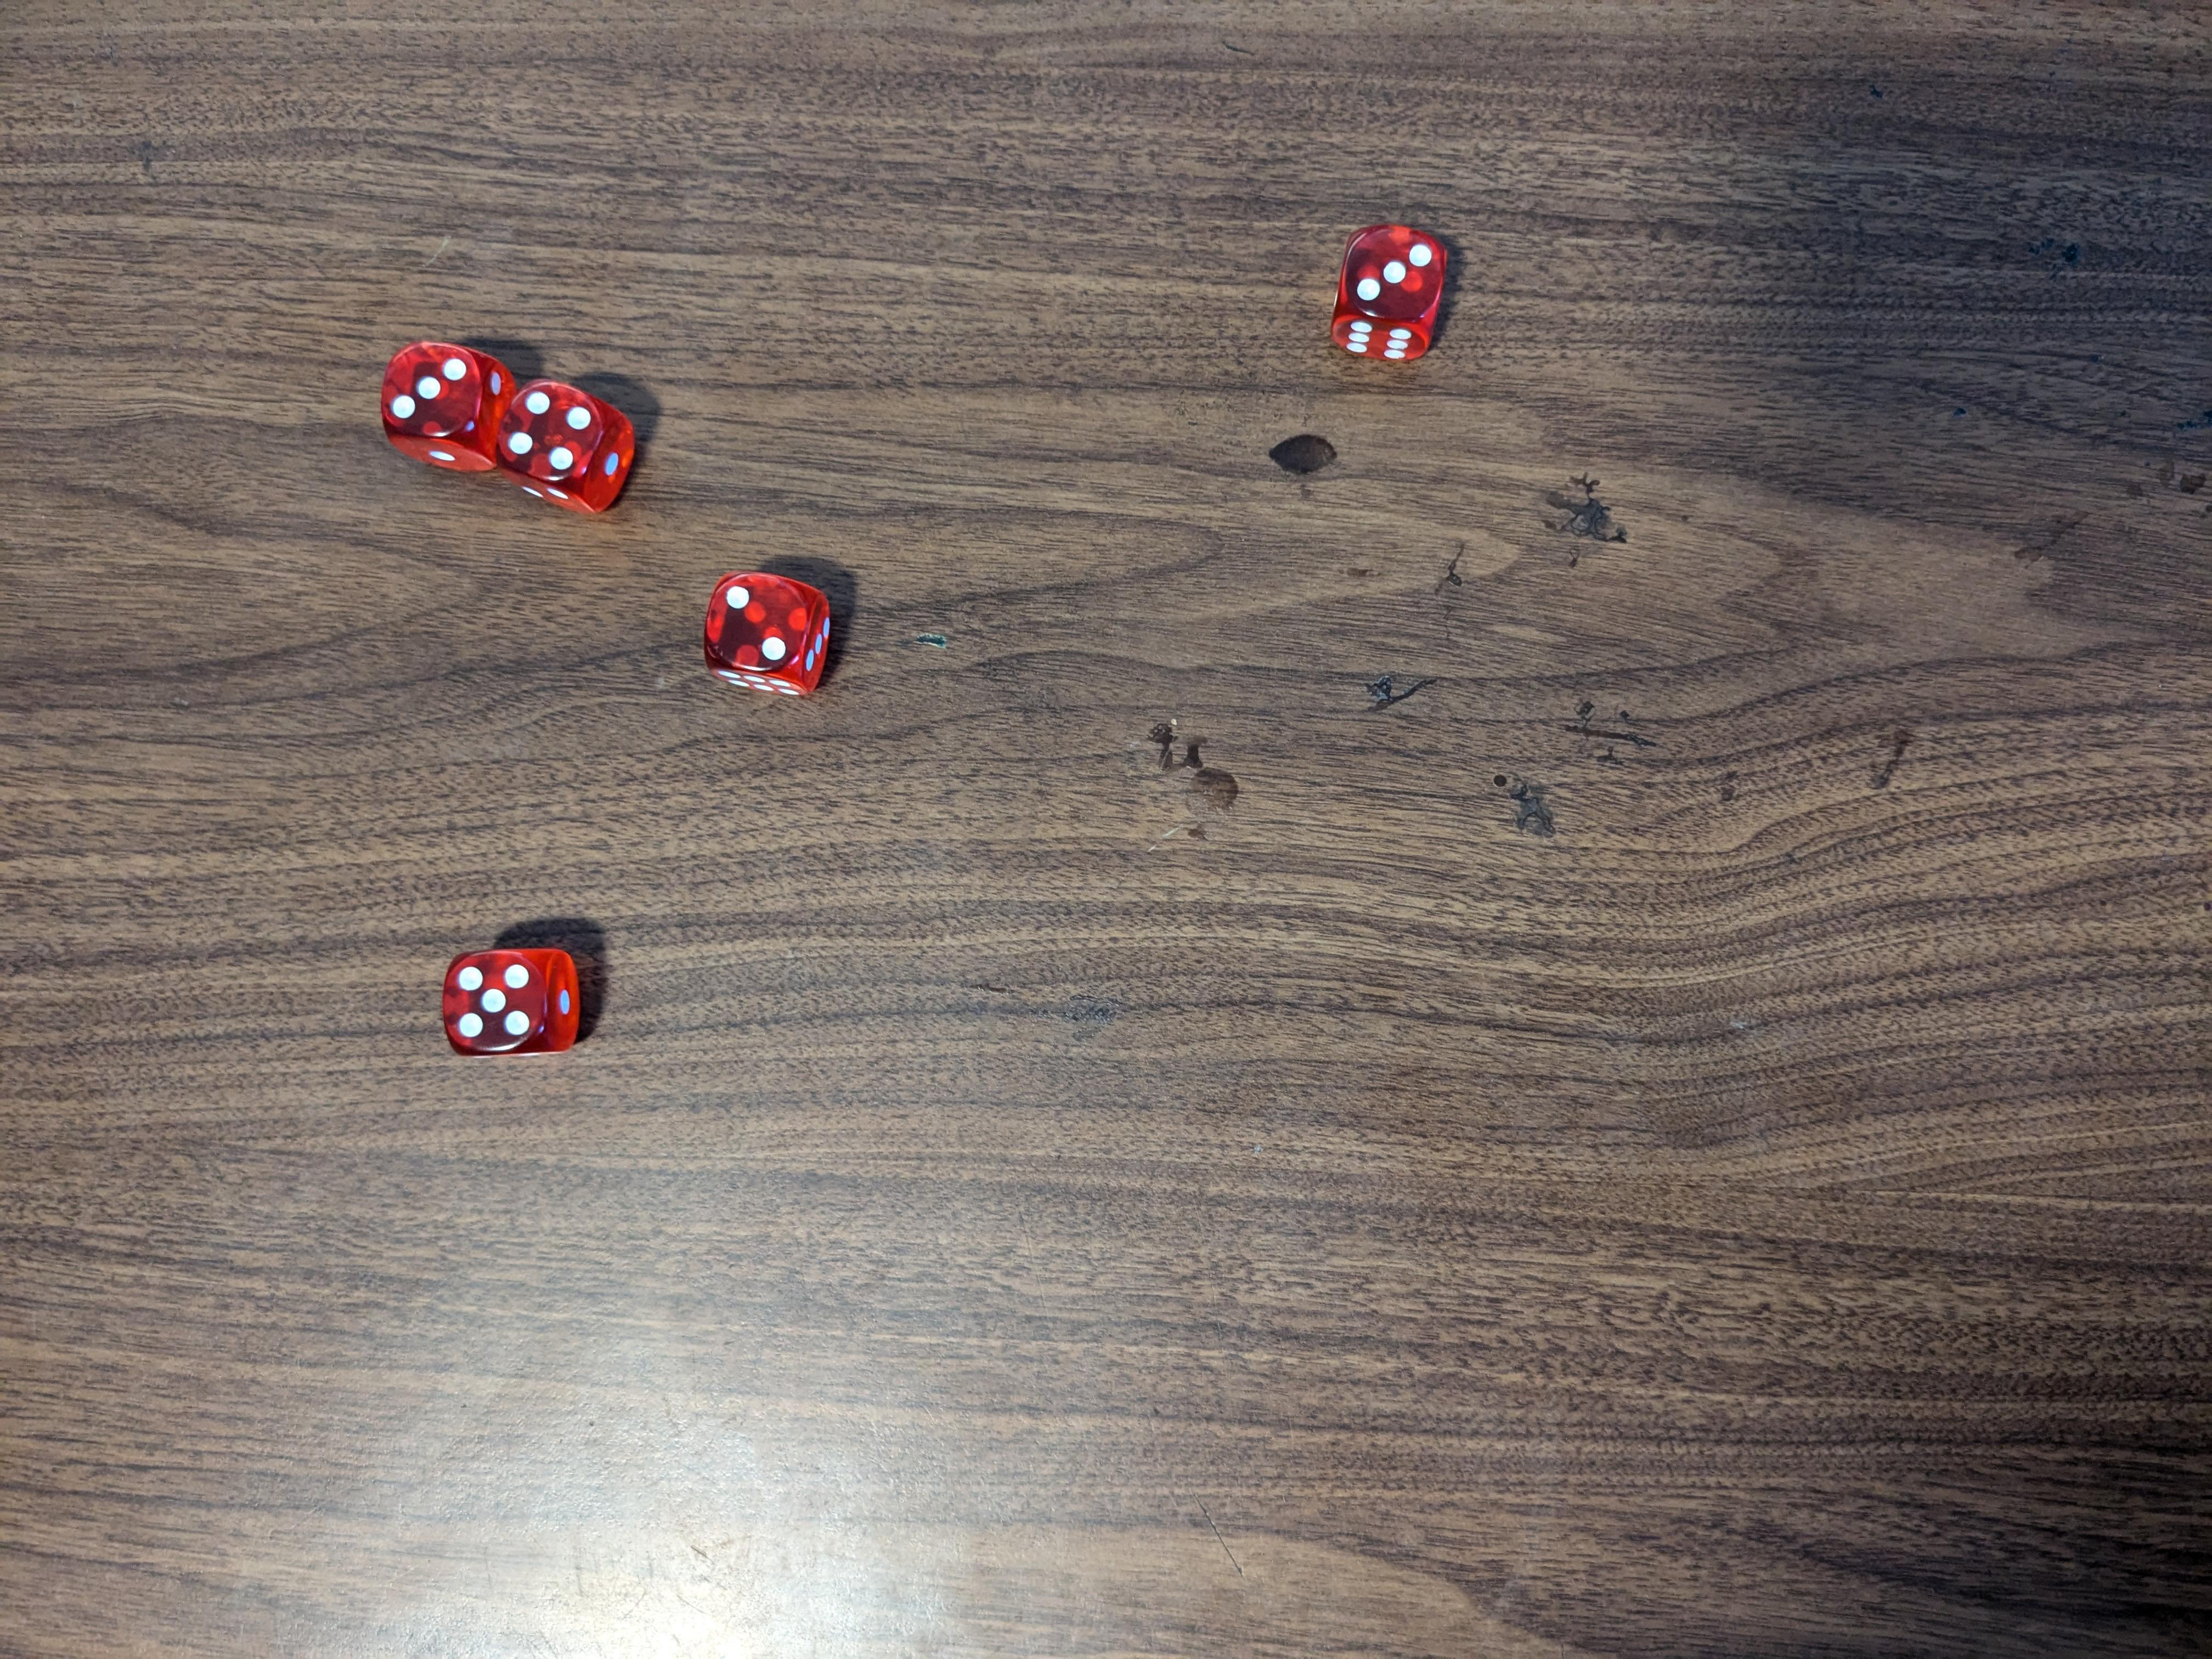five: (439, 948, 587, 1061)
four: (498, 373, 643, 519)
three: (374, 336, 521, 471), (1338, 218, 1454, 359)
two: (697, 568, 836, 695)
